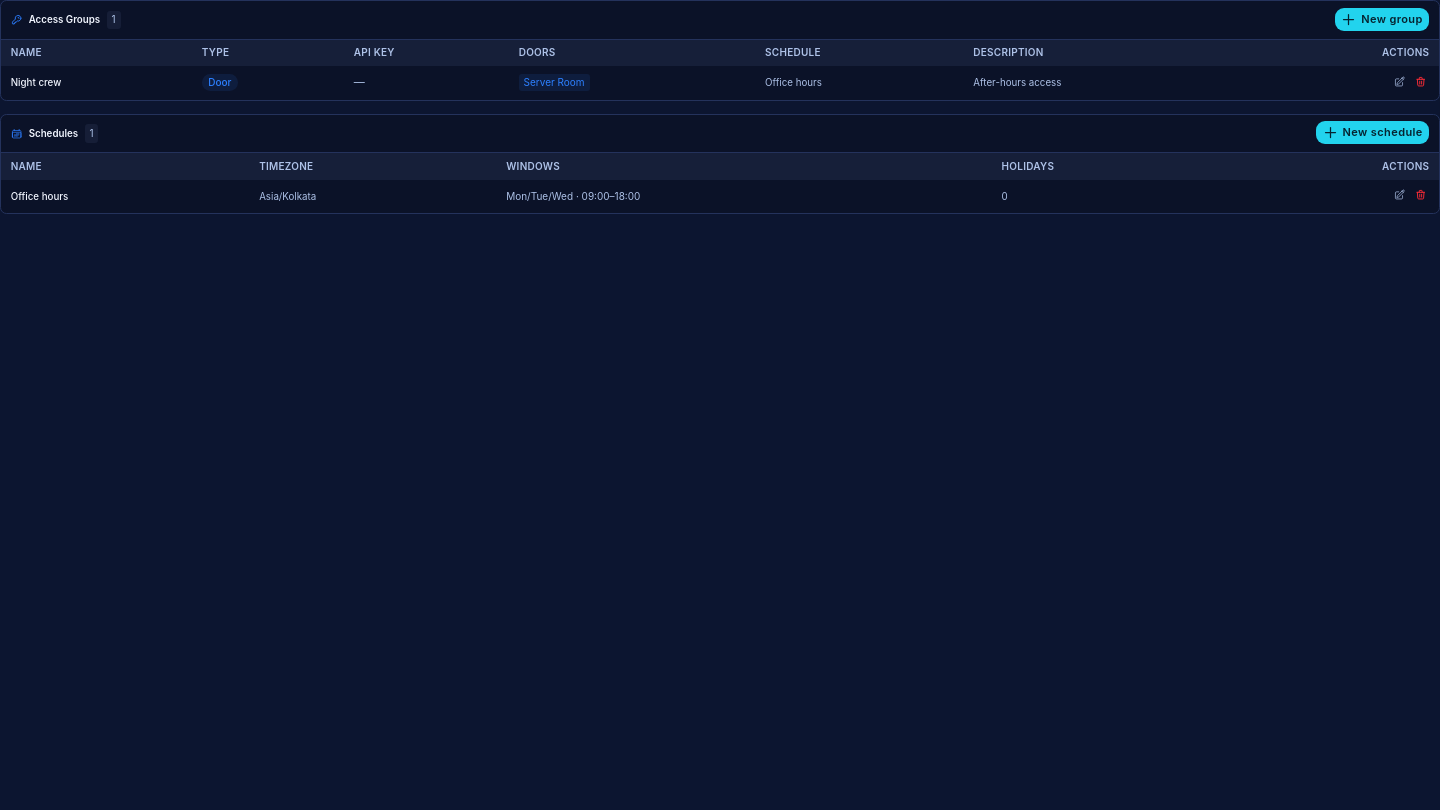
the access-group form › refuses to create a nameless group before the network sees it
The image size is (1440, 810).
Expected: the text "Night crew" is shown, [1,66,192,100]
Click the button "New group" at {"x": 1382, "y": 19}, box [1335,8,1429,30]
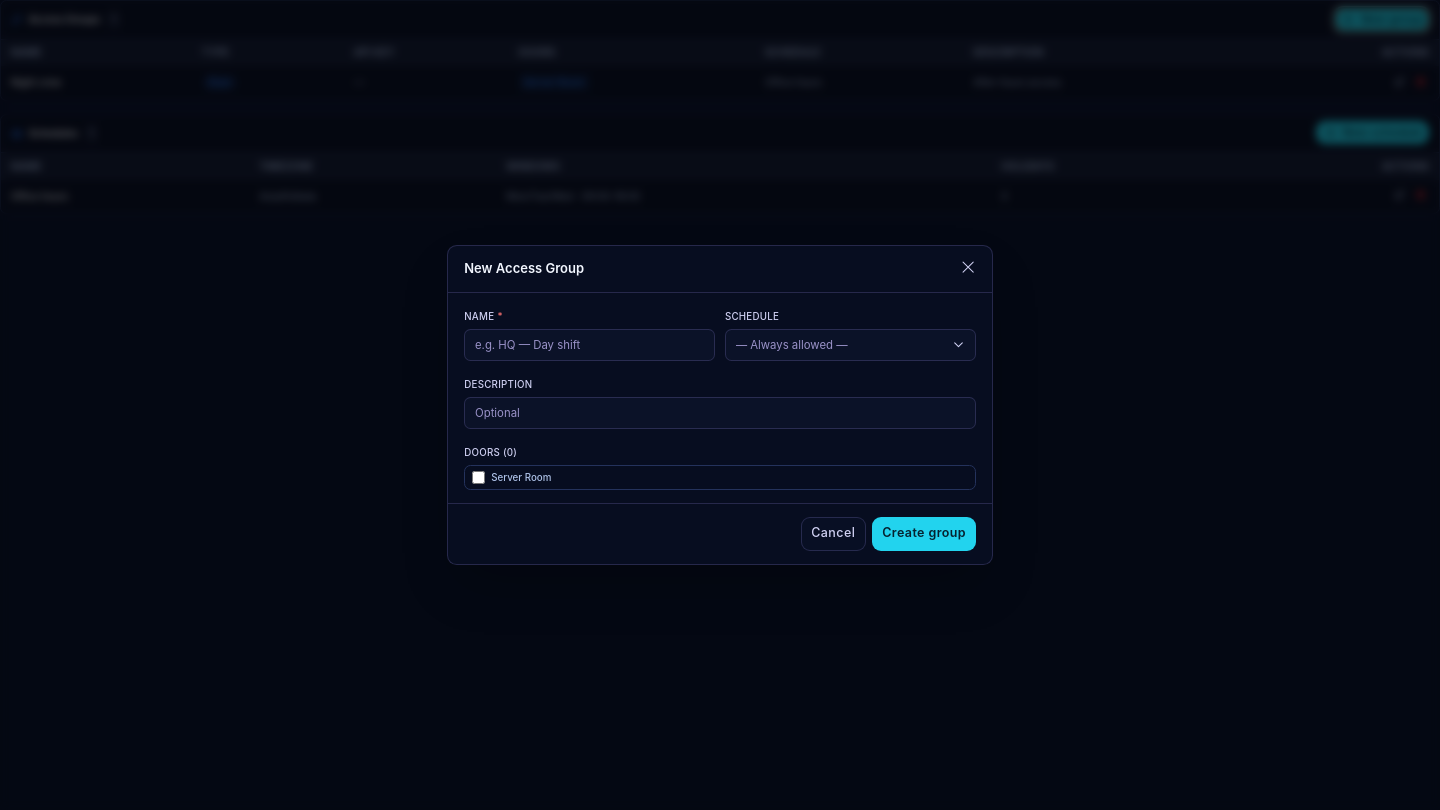
Click the button "Create group" at {"x": 924, "y": 534}, box [872,517,976,551]
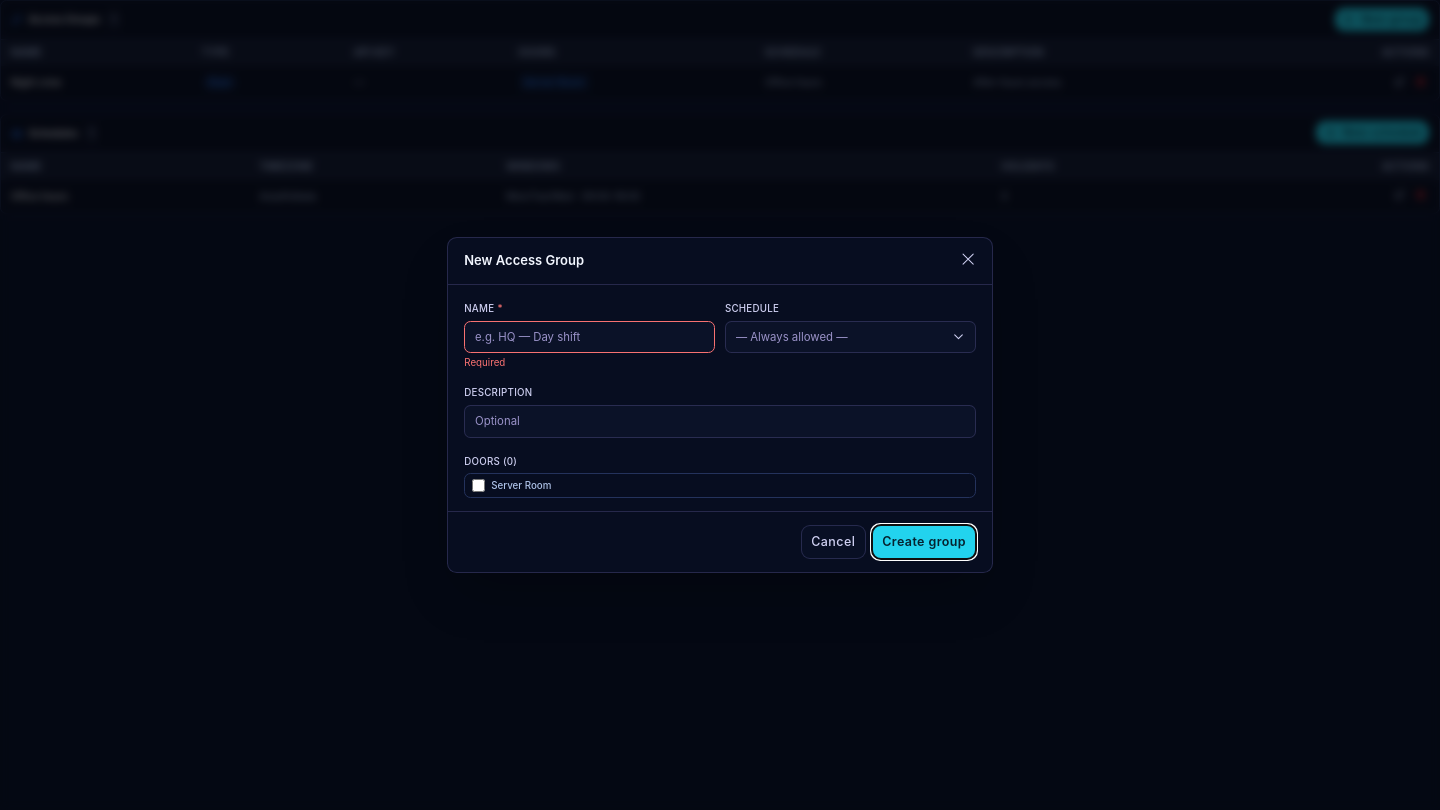
Result: the text "Required" is shown at [464,357,505,368]
